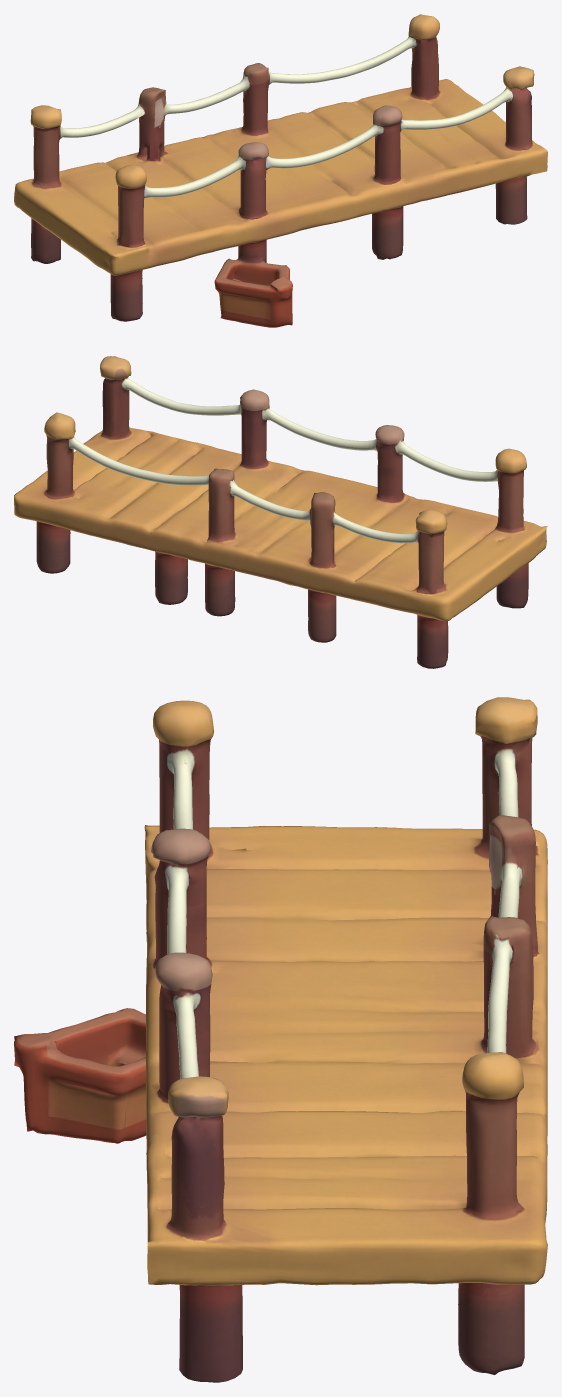
Rendered from B12_TradePort.fbx.
3 views of the same model, one above another, from view 1: azimuth 30°, elevation 25°; view 2: azimuth 150°, elevation 25°; view 3: azimuth 270°, elevation 25° (orthographic). The views are drawn at different scales.
Parts seen in each view (by area): view 1: tripo_node_14206d5f; view 2: tripo_node_14206d5f; view 3: tripo_node_14206d5f.
Part boxes in pixels (x1,y1,x2,y2): tripo_node_14206d5f: [14, 14, 547, 327]; tripo_node_14206d5f: [14, 356, 547, 668]; tripo_node_14206d5f: [14, 697, 547, 1382].
Size of the model in its own units: 0.9797 by 0.3508 by 0.5291.
